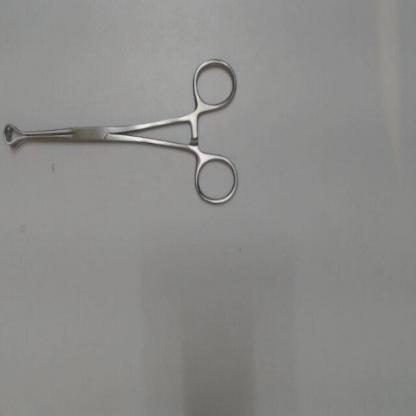Babcock Tissue Forceps: (0, 52, 242, 207)
